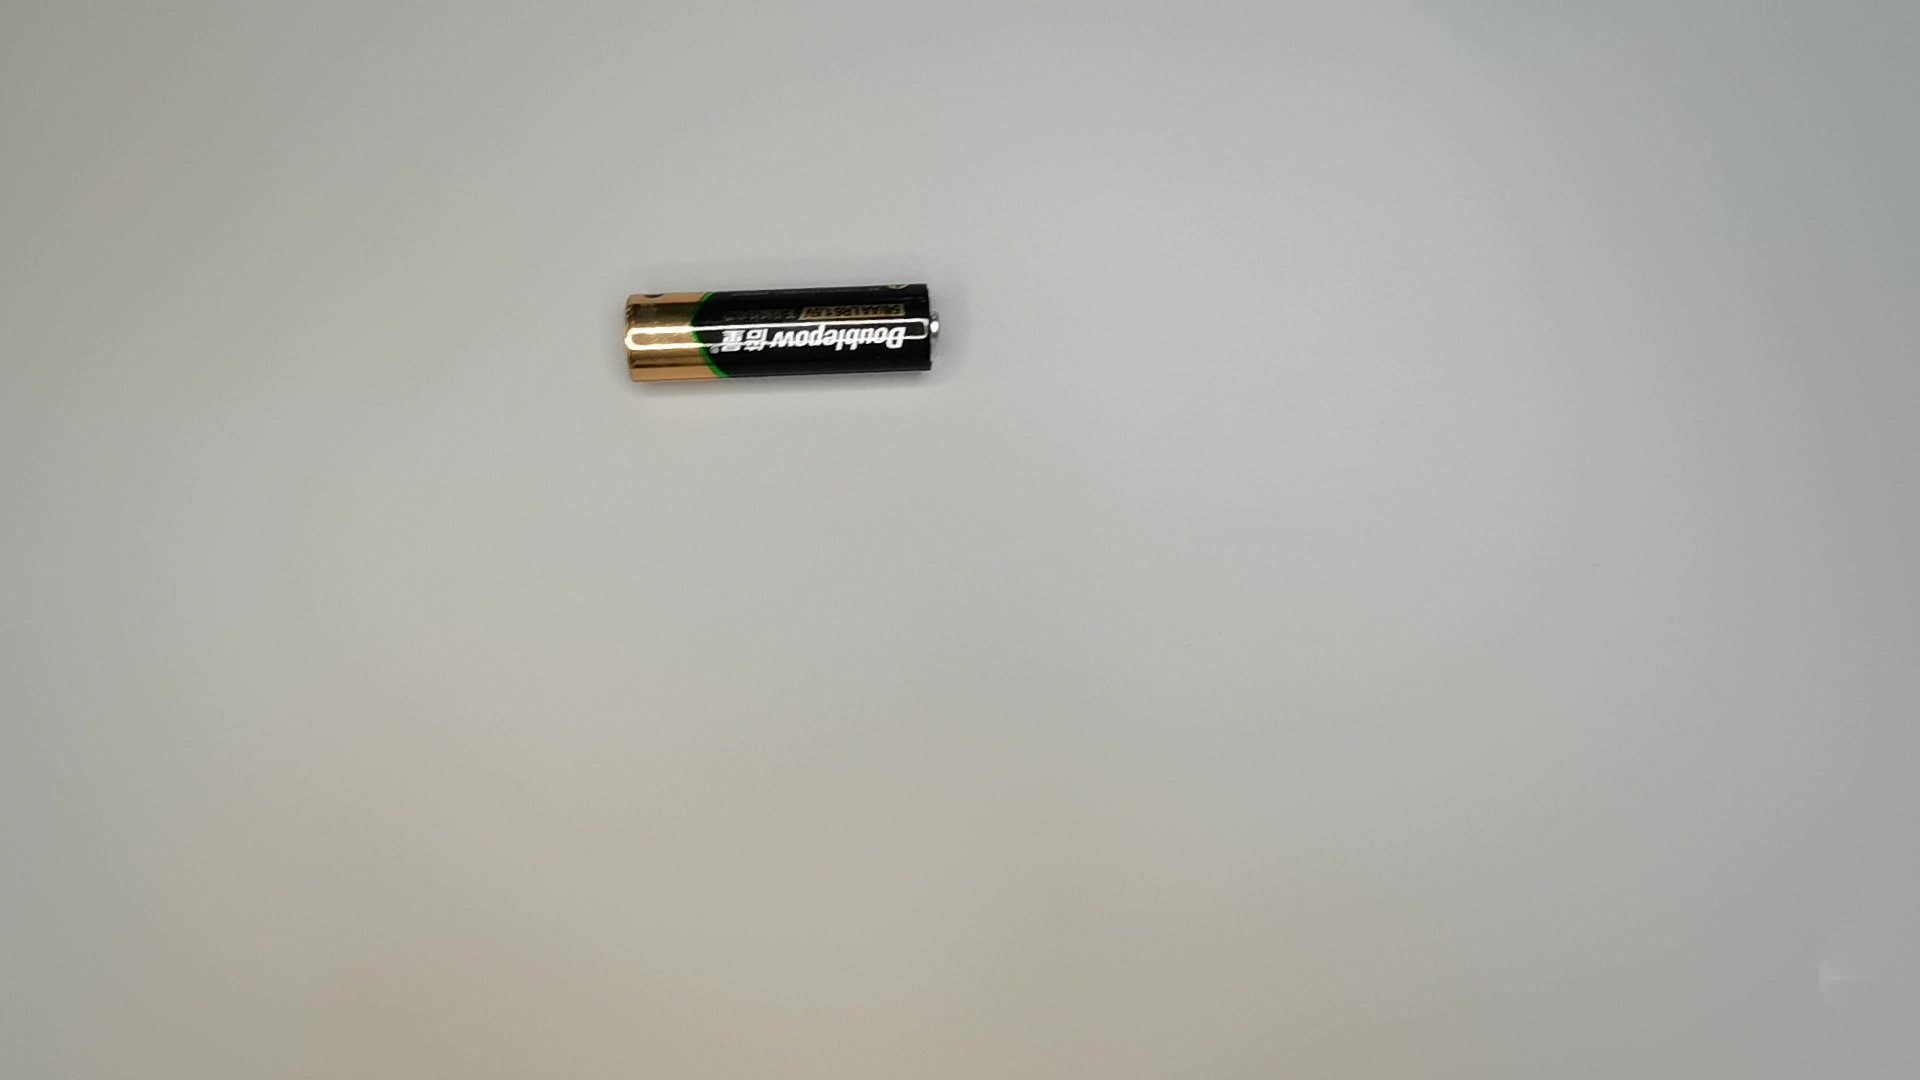battery: (615, 287, 944, 394)
